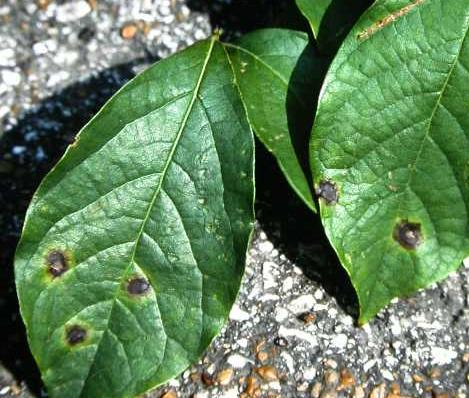Tomato leaf bacterial spot: (0, 33, 264, 398), (291, 0, 469, 336)
